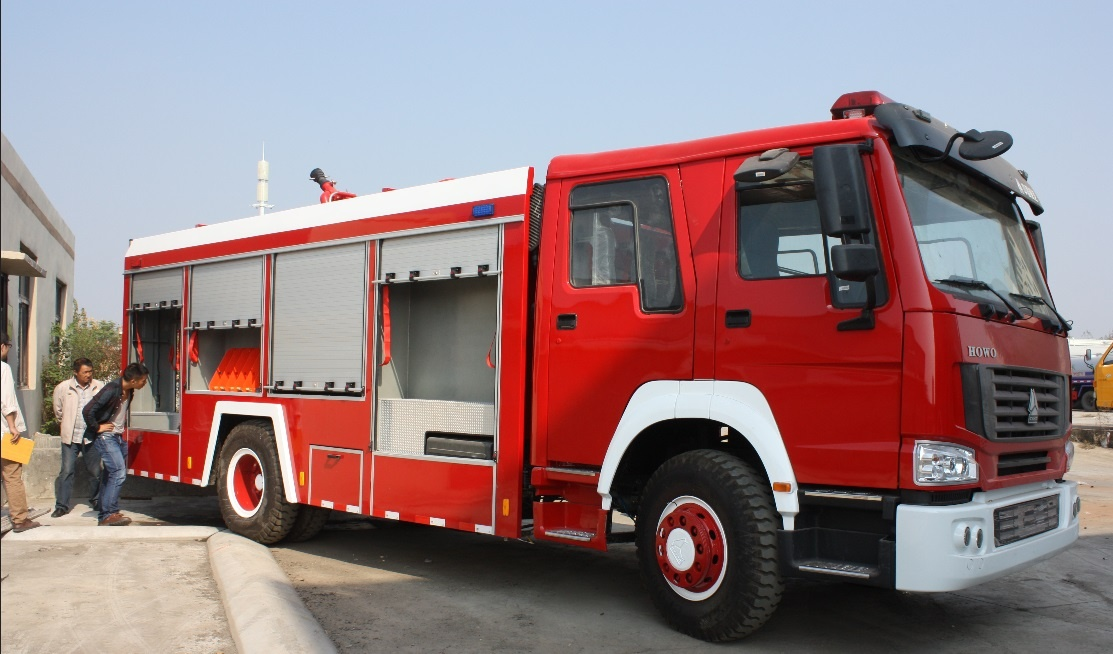fire engine: (101, 144, 1079, 611)
